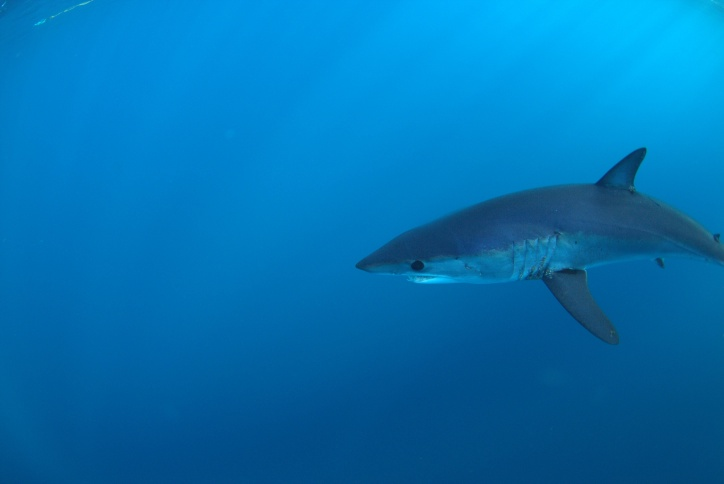Mako: (346, 139, 724, 350)
